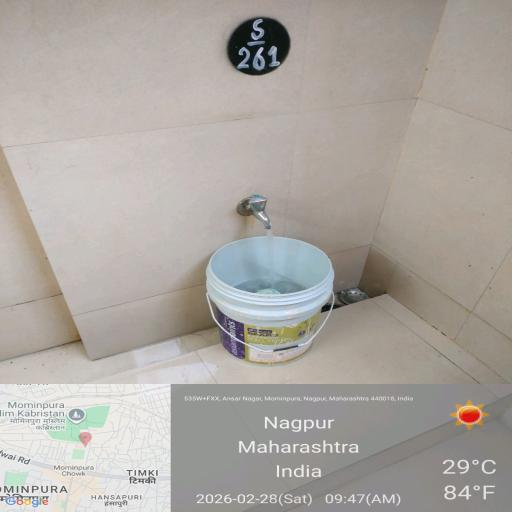clean_floor: (75, 113, 413, 470)
